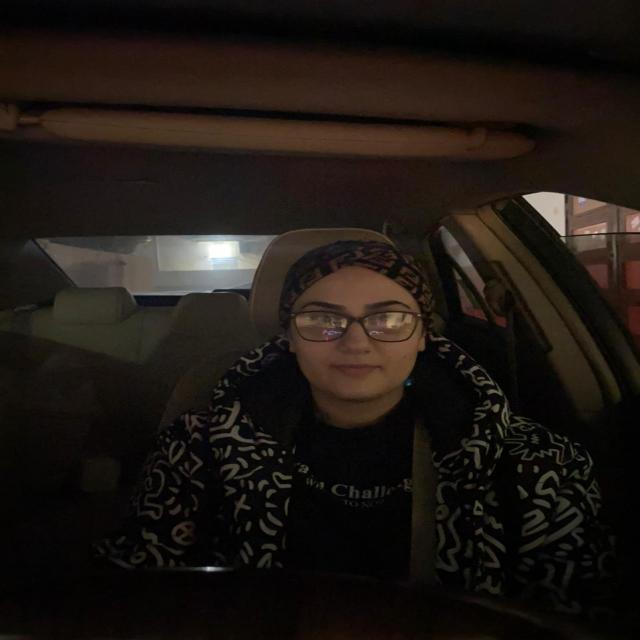person: (271, 237, 442, 409)
